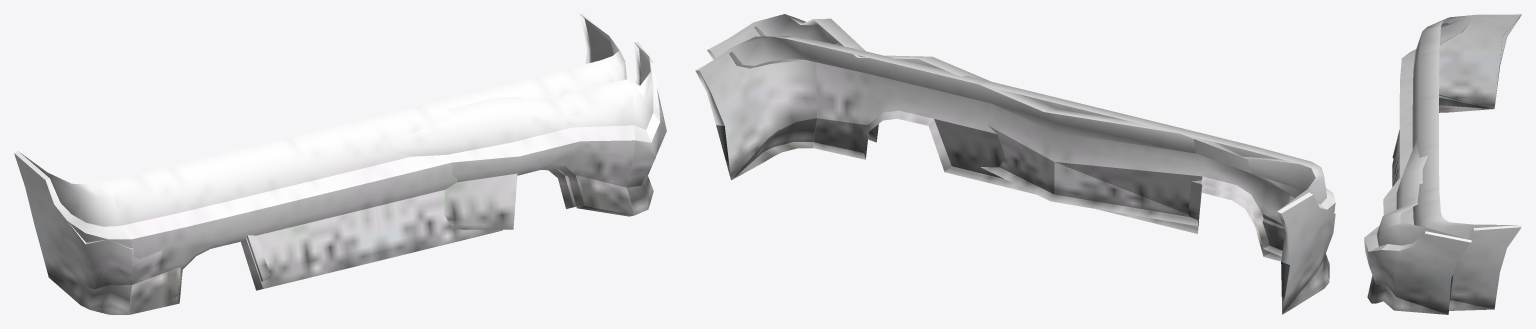
Rendered from rbmp_a_f.glb.
The picture shows the model from 3 angles, left to right: view 1: azimuth 30°, elevation 25°; view 2: azimuth 150°, elevation 25°; view 3: azimuth 270°, elevation 25°; orthographic projection. The views are drawn at different scales.
Visible parts, largest first — view 1: rbmp_a_f, rbmp_a_f_dam; view 2: rbmp_a_f, rbmp_a_f_dam; view 3: rbmp_a_f, rbmp_a_f_dam.
Boxes of the visible parts, bbox=[...] form: rbmp_a_f: bbox=[14, 14, 626, 314]; rbmp_a_f_dam: bbox=[14, 42, 666, 314]; rbmp_a_f: bbox=[695, 36, 1335, 314]; rbmp_a_f_dam: bbox=[707, 14, 1335, 313]; rbmp_a_f: bbox=[1392, 14, 1521, 310]; rbmp_a_f_dam: bbox=[1364, 14, 1521, 314].
Size of the model in its own units: 1.98 by 0.3837 by 0.5968.
Materials: 1 (1 with a texture image).
